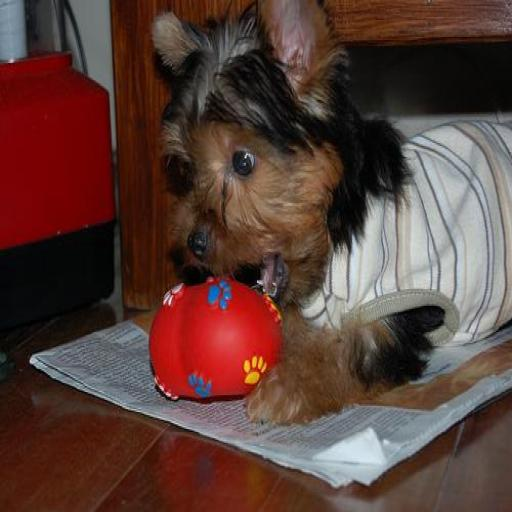dog_face: (150, 20, 360, 288)
